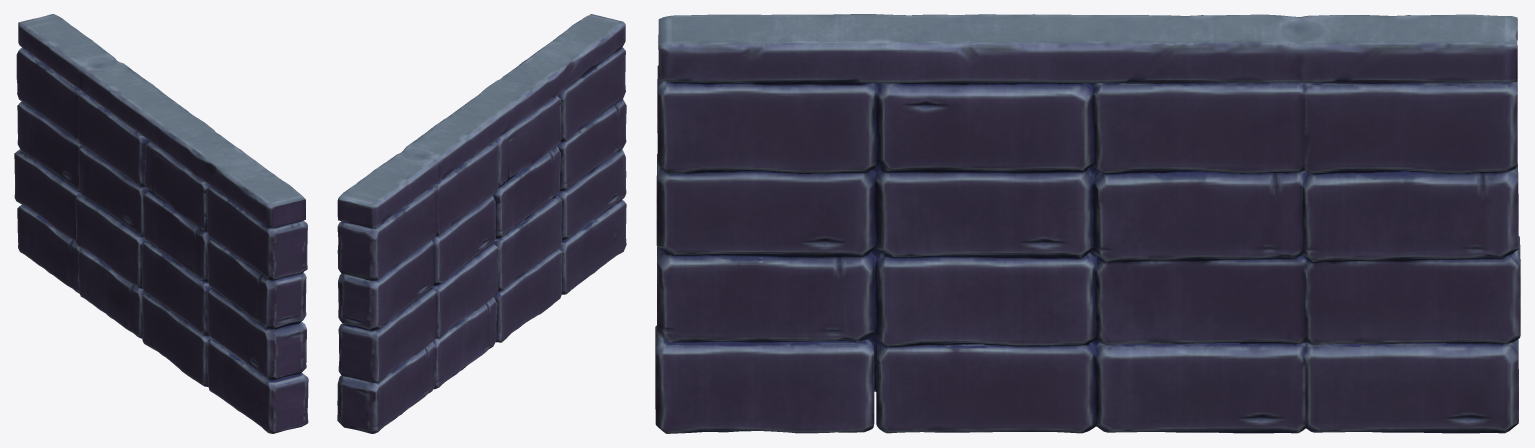
The model's file is BigWall.glb.
3 renders of one model, left to right at view 1: azimuth 30°, elevation 25°; view 2: azimuth 150°, elevation 25°; view 3: azimuth 270°, elevation 25°, orthographic. The views are drawn at different scales.
Visible parts, largest first — view 1: BigWall; view 2: BigWall; view 3: BigWall.
Part boxes in pixels (left/top/right/bottom): BigWall: left=14, top=14, right=308, bottom=433; BigWall: left=337, top=14, right=626, bottom=433; BigWall: left=655, top=14, right=1520, bottom=433.
Size of the model in its own units: 2 by 10 by 20.
1 material, 1 textured.
